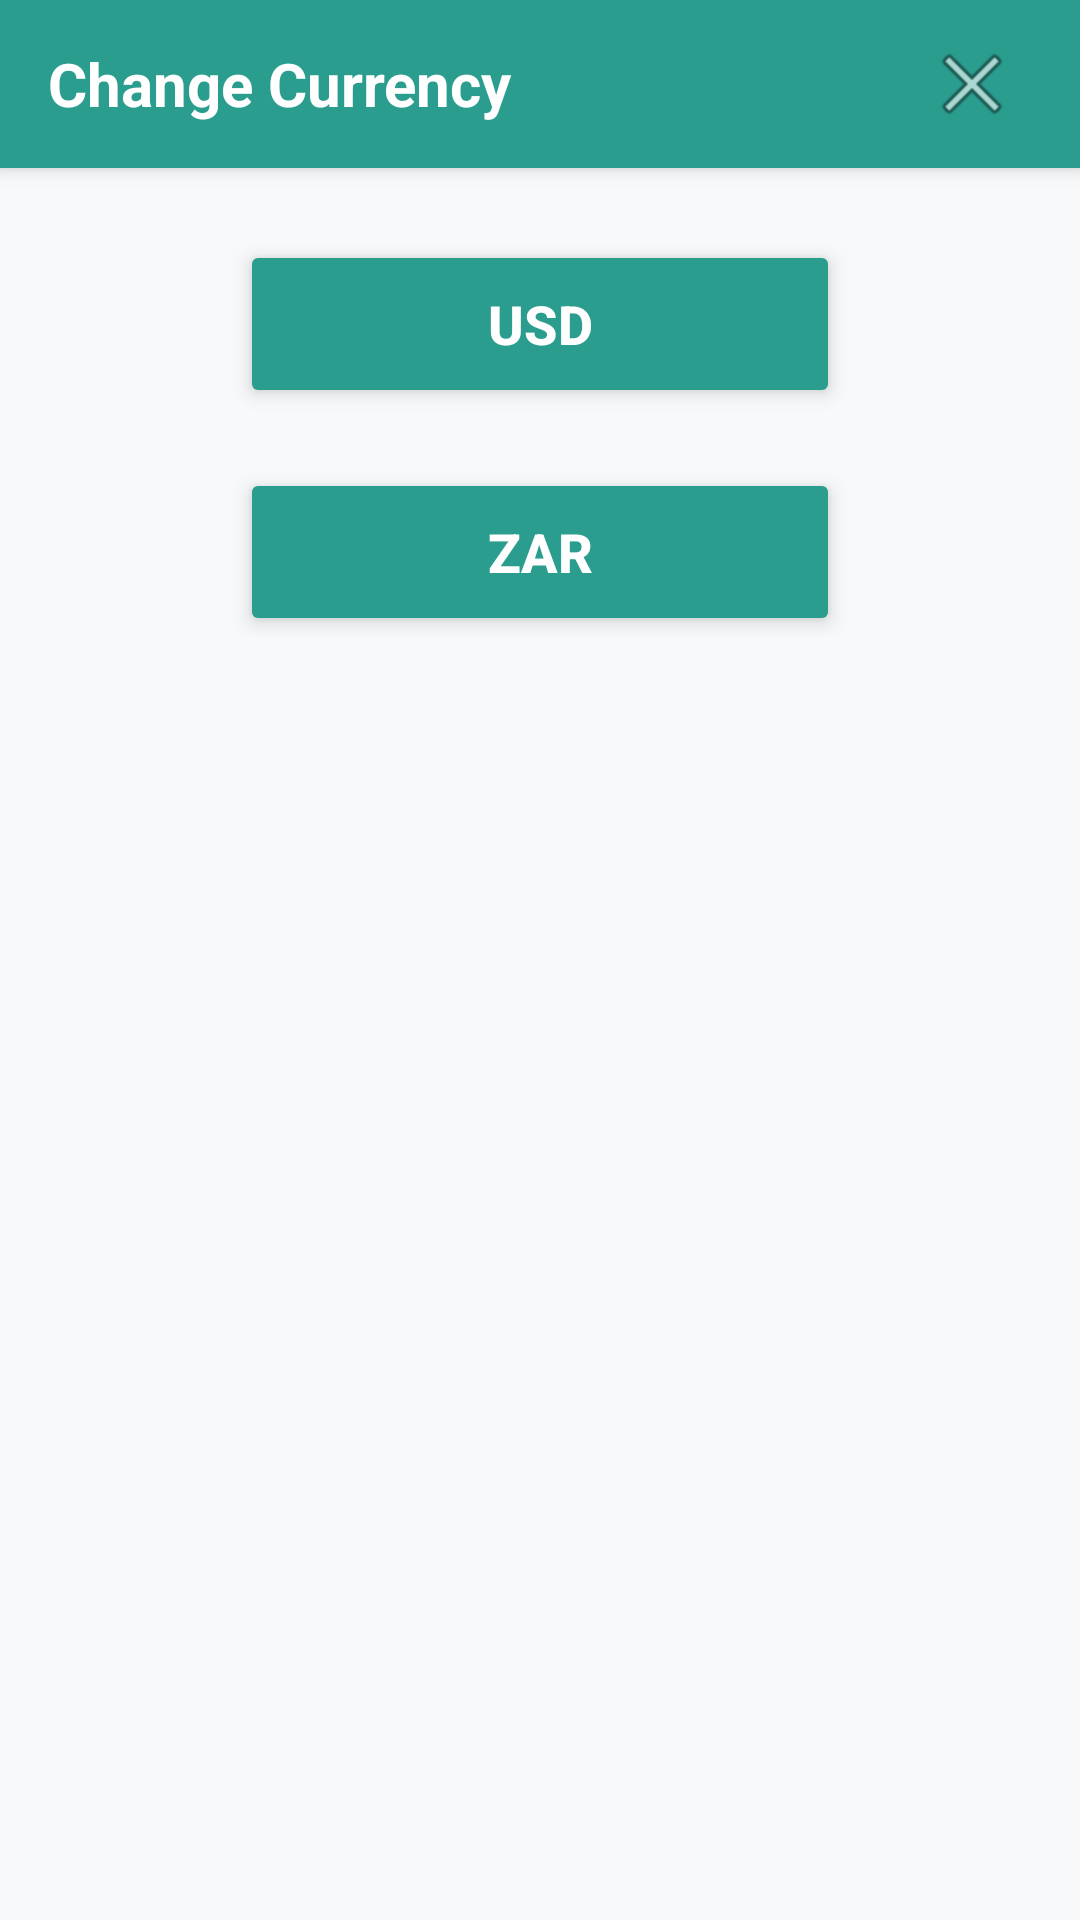

Icon bounding boxes for this 1080px x 1920px phone screenshot, format (x1, y1, x2, y2):
Exit: (942, 54, 1002, 114)
